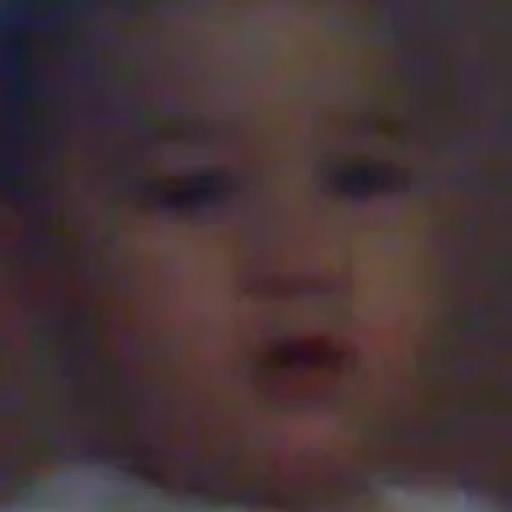Autism: (60, 1, 512, 474)
